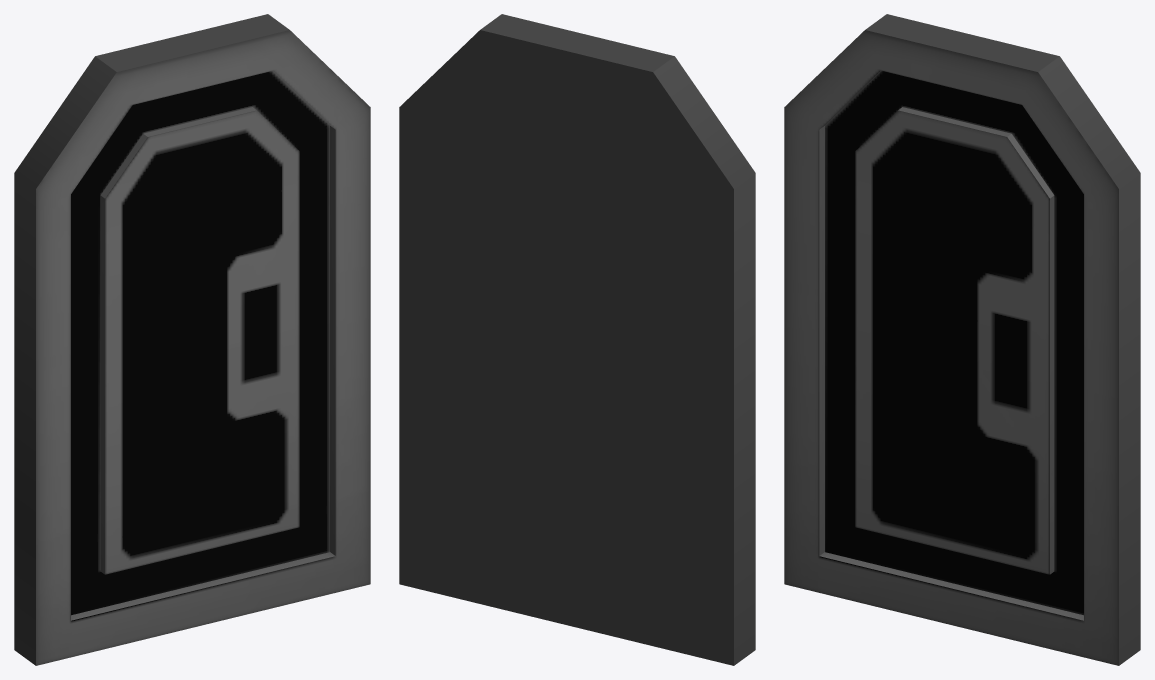
Rendered from Door.FBX.
The picture shows the model from 3 angles, left to right: view 1: azimuth 30°, elevation 25°; view 2: azimuth 150°, elevation 25°; view 3: azimuth 330°, elevation 25°; orthographic projection.
Parts seen in each view (by area): view 1: Door; view 2: Door; view 3: Door.
Boxes of the visible parts, x1,y1,x2,y2 form: Door: (14, 14, 370, 665); Door: (399, 14, 755, 665); Door: (784, 14, 1140, 665).
Bounding box in the file's own units: 131 × 214 × 14.76.
